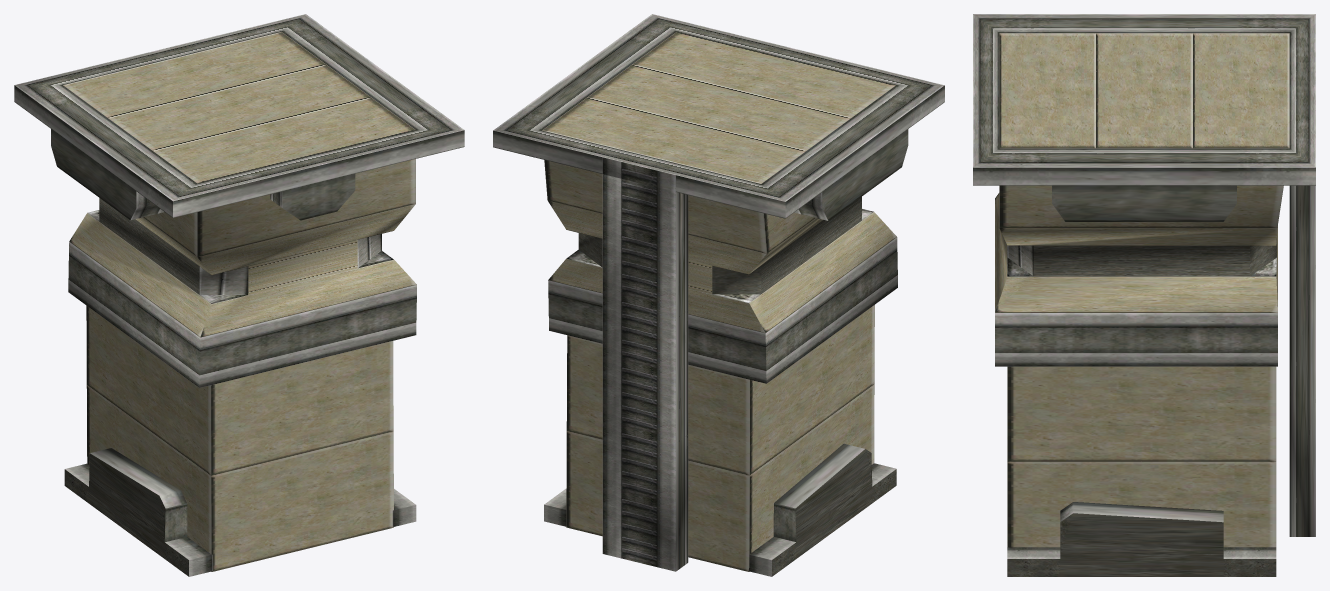
Rendered from DWARF_PALACE_FORGE_ROOM_PILLER.fbx.
3 views of the same model, side by side, from view 1: azimuth 30°, elevation 25°; view 2: azimuth 150°, elevation 25°; view 3: azimuth 270°, elevation 25° (orthographic). The views are drawn at different scales.
Parts seen in each view (by area): view 1: DWARF_PALACE_FORGE_ROOM_PILLER; view 2: DWARF_PALACE_FORGE_ROOM_PILLER; view 3: DWARF_PALACE_FORGE_ROOM_PILLER.
Boxes of the visible parts, x1,y1,x2,y2 form: DWARF_PALACE_FORGE_ROOM_PILLER: [14, 14, 464, 576]; DWARF_PALACE_FORGE_ROOM_PILLER: [493, 14, 944, 576]; DWARF_PALACE_FORGE_ROOM_PILLER: [973, 14, 1315, 576].
Size of the model in its own units: 55182 by 71559 by 52037.
Materials: 7 (7 with a texture image).
